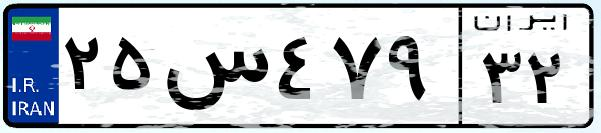2: (57, 26, 110, 100), (525, 38, 570, 115)
3: (475, 38, 525, 113)
4: (270, 28, 330, 110)
5: (110, 28, 158, 98)
7: (330, 28, 385, 110)
9: (385, 28, 445, 110)
س: (158, 20, 270, 120)
